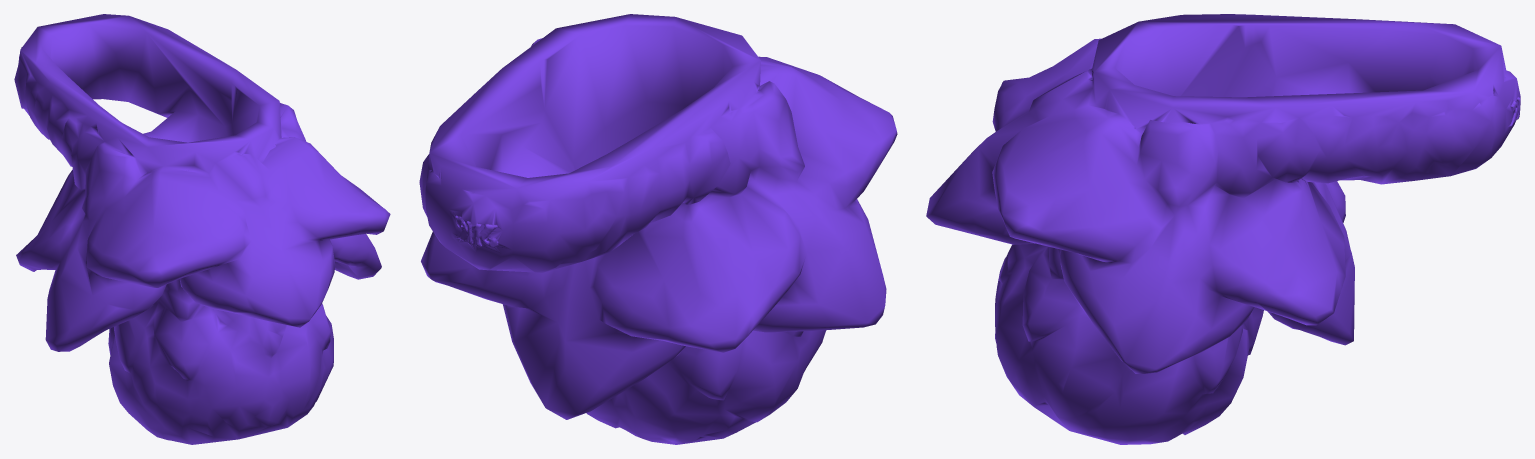
Rendered from flower-standard-ar.glb.
The picture shows the model from 3 angles, left to right: view 1: azimuth 30°, elevation 25°; view 2: azimuth 150°, elevation 25°; view 3: azimuth 270°, elevation 25°; orthographic projection. The views are drawn at different scales.
Bounding box in the file's own units: 0.091 × 0.0817 × 0.1204.
